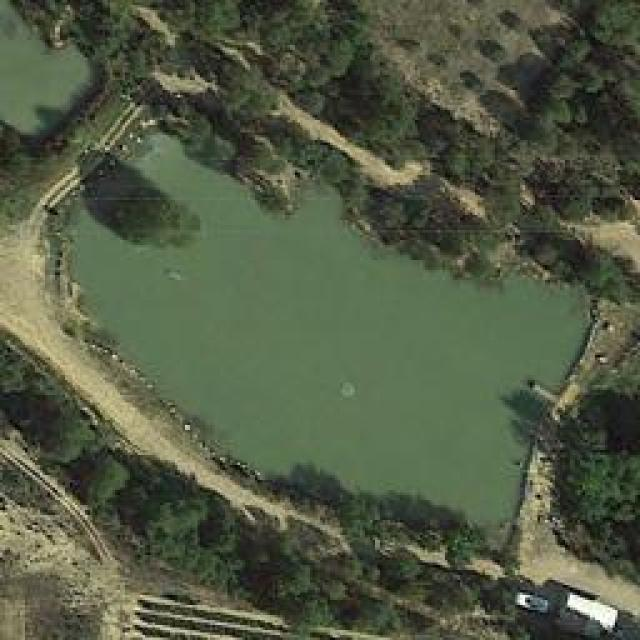Lake: (28, 77, 622, 583)
